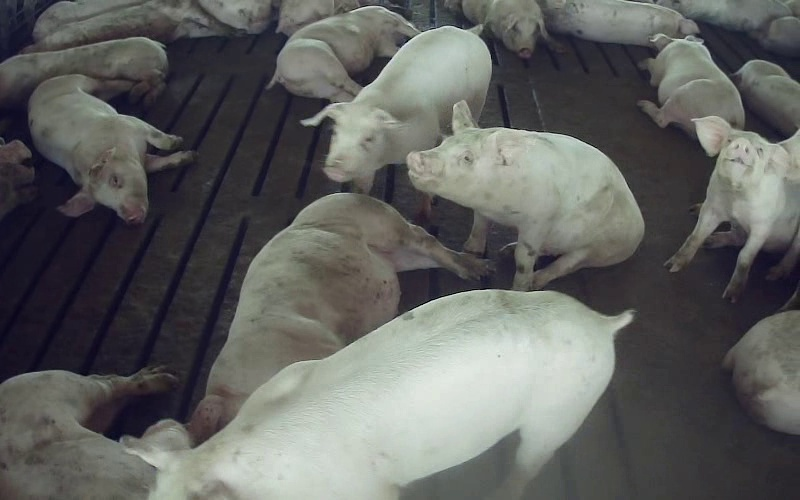pig: (123, 291, 632, 499), (187, 193, 489, 442), (407, 101, 643, 289), (28, 74, 196, 223), (665, 116, 799, 301), (0, 368, 175, 499), (267, 6, 419, 101), (0, 37, 167, 109), (21, 0, 239, 51), (637, 34, 744, 137), (538, 0, 698, 46), (462, 0, 560, 58), (732, 60, 799, 136)
